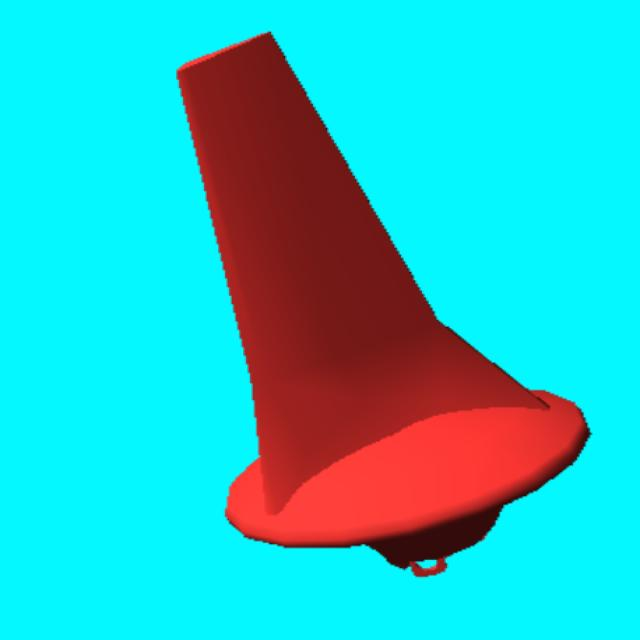RedBuoy: (177, 34, 587, 571)
